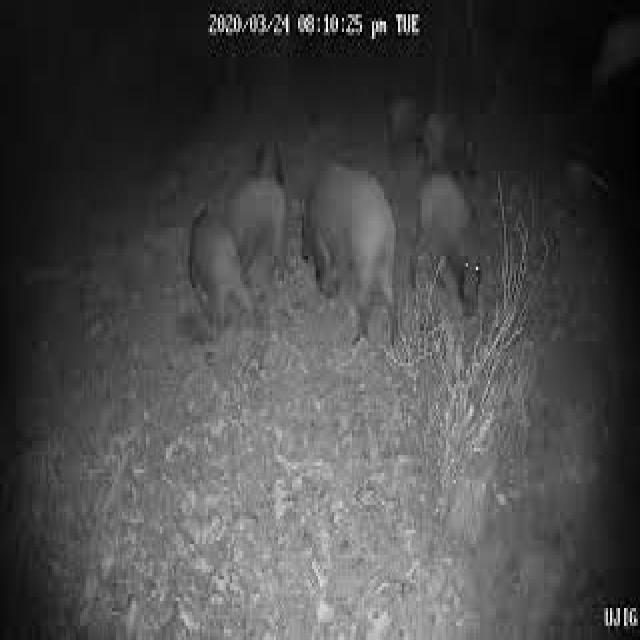boar: (399, 153, 505, 318)
